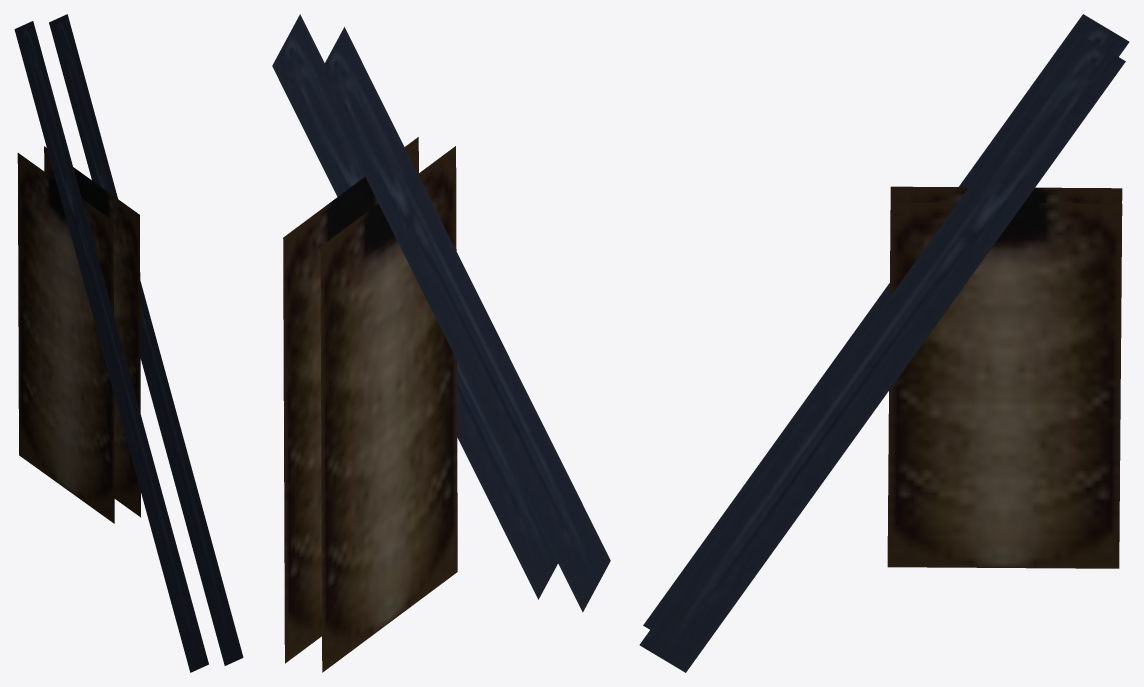
Rendered from sign1_spanish_a_icon_tailor.fbx.
3 views of the same model, side by side, from view 1: azimuth 30°, elevation 25°; view 2: azimuth 150°, elevation 25°; view 3: azimuth 270°, elevation 25° (orthographic). The views are drawn at different scales.
Parts seen in each view (by area): view 1: icon_thread, icon_needle; view 2: icon_thread, icon_needle; view 3: icon_thread, icon_needle.
Boxes of the visible parts, x1,y1,x2,y2 form: icon_thread: [17, 146, 140, 523]; icon_needle: [14, 14, 243, 672]; icon_thread: [283, 137, 457, 672]; icon_needle: [272, 14, 610, 612]; icon_thread: [887, 186, 1122, 568]; icon_needle: [639, 14, 1129, 672].
Size of the model in its own units: 25 by 322 by 222.
1 material, 1 textured.
